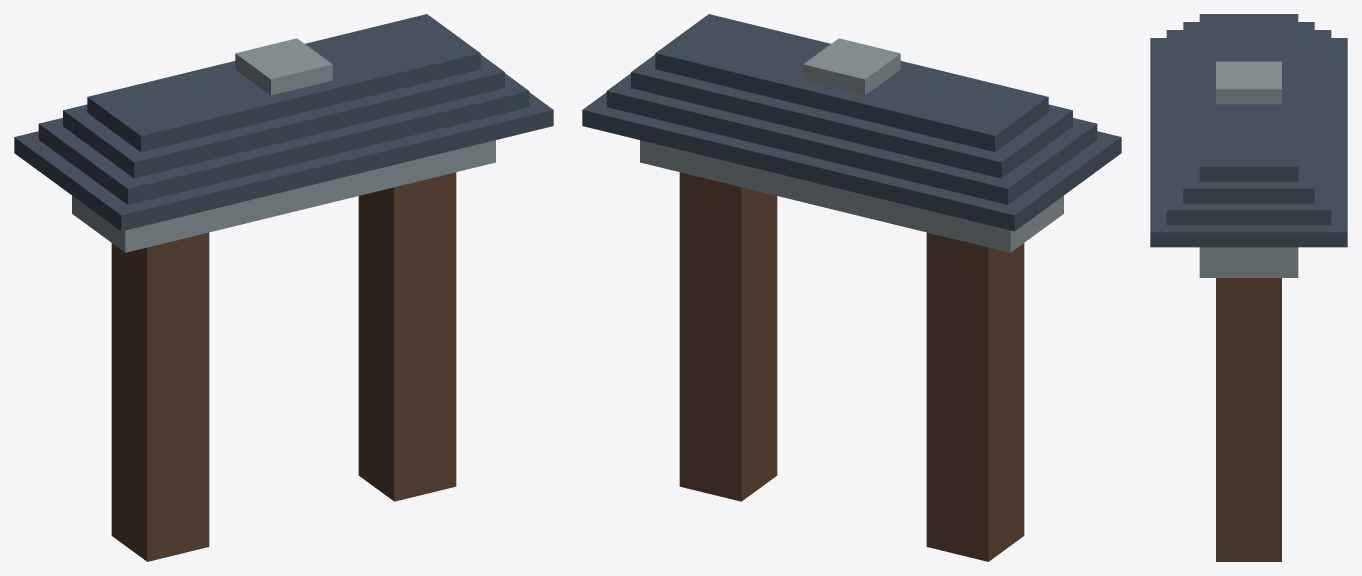
The model's file is gate.glb.
3 renders of one model, left to right at view 1: azimuth 30°, elevation 25°; view 2: azimuth 150°, elevation 25°; view 3: azimuth 270°, elevation 25°, orthographic. The views are drawn at different scales.
Visible parts, largest first — view 1: Shell; view 2: Shell; view 3: Shell.
Part boxes in pixels (left/top/right/bottom): Shell: left=14, top=14, right=553, bottom=561; Shell: left=582, top=14, right=1121, bottom=561; Shell: left=1150, top=14, right=1347, bottom=561.
Size of the model in its own units: 3.5 by 3.5 by 1.5.
